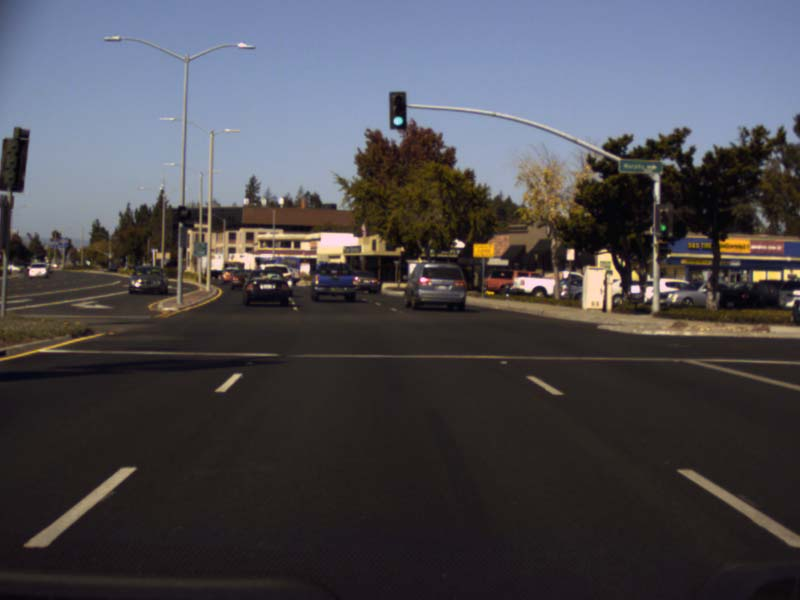Green: (388, 91, 407, 130), (654, 203, 673, 236)
